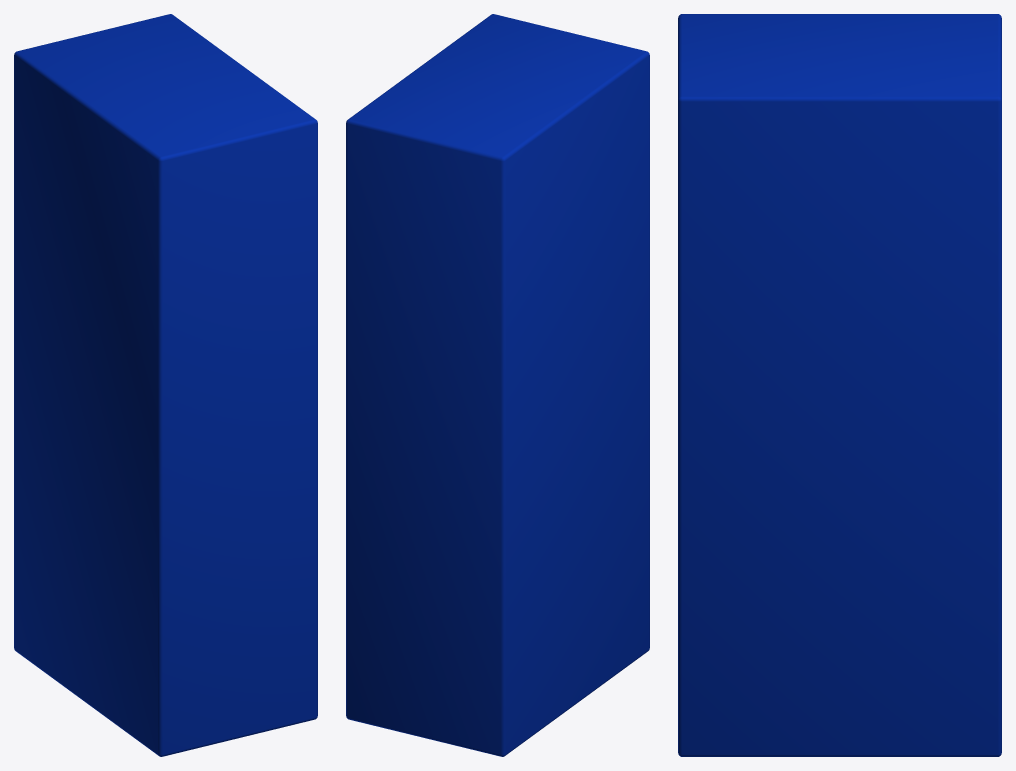
Rendered from Quader.fbx.
3 renders of one model, left to right at view 1: azimuth 30°, elevation 25°; view 2: azimuth 150°, elevation 25°; view 3: azimuth 270°, elevation 25°, orthographic. The views are drawn at different scales.
Visible parts, largest first — view 1: Quader; view 2: Quader; view 3: Quader.
Part boxes in pixels (x1=…): Quader: x1=14, y1=14, x2=317, y2=756; Quader: x1=346, y1=14, x2=649, y2=756; Quader: x1=678, y1=14, x2=1001, y2=756.
Size of the model in its own units: 25 by 90 by 40.
